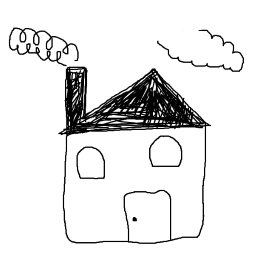clouds: (155, 8, 255, 73)
door: (114, 183, 186, 249)
open_window: (137, 130, 195, 177), (73, 143, 110, 183)
shaded_roof: (42, 63, 242, 135)
smoking_chimney: (2, 18, 89, 139)
wall: (55, 127, 215, 251)
